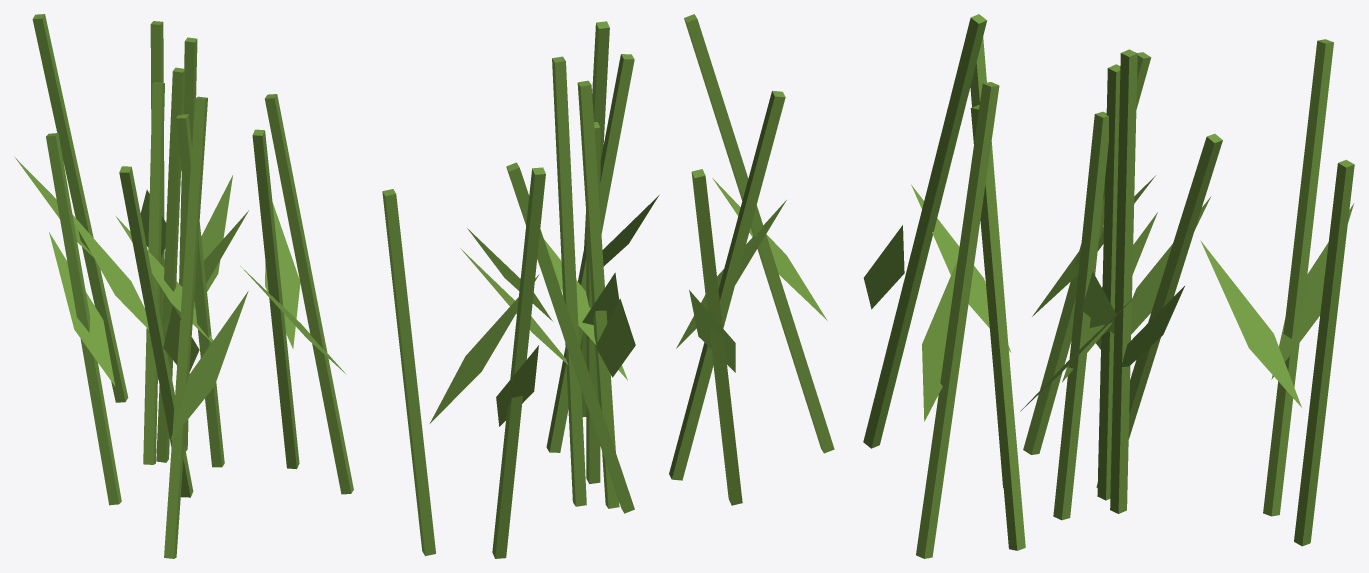
Rendered from wheat_s1.glb.
3 views of the same model, side by side, from view 1: azimuth 30°, elevation 25°; view 2: azimuth 150°, elevation 25°; view 3: azimuth 270°, elevation 25° (orthographic). The views are drawn at different scales.
Visible parts, largest first — view 1: wheat; view 2: wheat; view 3: wheat.
Part boxes in pixels (x1,y1,x2,y2): wheat: [14, 14, 353, 558]; wheat: [382, 14, 834, 558]; wheat: [863, 14, 1354, 558].
Size of the model in its own units: 0.2072 by 0.3698 by 0.3488.
